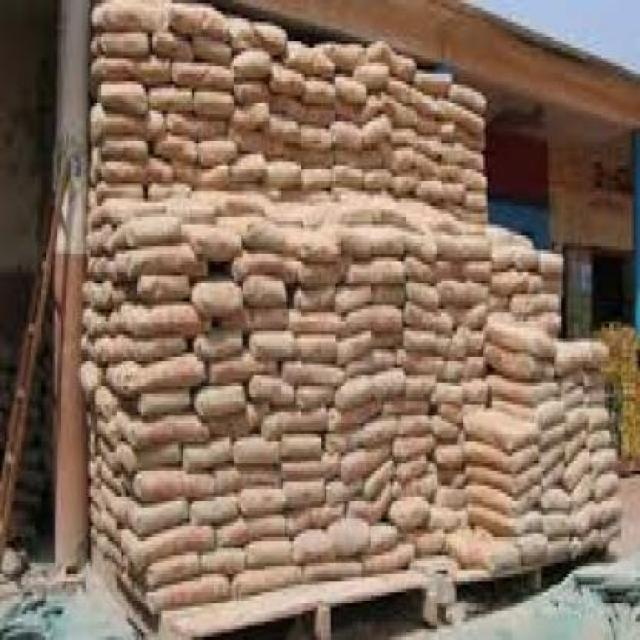gunny_bag: (338, 364, 404, 410), (139, 525, 214, 565), (154, 575, 230, 612), (233, 563, 301, 599), (132, 356, 205, 389), (216, 515, 285, 549), (138, 413, 208, 446), (134, 302, 196, 339), (172, 4, 230, 42), (148, 551, 200, 591), (490, 316, 541, 356), (231, 20, 287, 56), (341, 310, 404, 342), (210, 357, 277, 387), (340, 443, 390, 482), (285, 502, 345, 534), (100, 55, 171, 82), (138, 503, 189, 540), (327, 422, 382, 456), (213, 467, 279, 495), (264, 409, 325, 439), (194, 382, 246, 417), (301, 556, 366, 584), (138, 274, 191, 308), (486, 346, 536, 382), (333, 398, 384, 433), (106, 199, 167, 228), (404, 345, 449, 384), (246, 530, 293, 567), (140, 474, 212, 498), (102, 0, 171, 25), (442, 97, 487, 135), (281, 452, 339, 481), (331, 517, 370, 560), (404, 303, 454, 336), (284, 355, 339, 385), (342, 230, 407, 255), (147, 111, 200, 141), (135, 246, 196, 272), (489, 374, 538, 406), (240, 252, 297, 279), (181, 442, 234, 471), (100, 81, 147, 113), (345, 485, 392, 517), (368, 543, 413, 576), (194, 228, 240, 260), (294, 529, 336, 564), (172, 62, 233, 86), (239, 488, 283, 521), (406, 252, 456, 280), (235, 438, 280, 469), (396, 447, 430, 488), (195, 283, 241, 313), (193, 491, 239, 521), (299, 255, 348, 283), (208, 409, 248, 443), (130, 218, 180, 245), (344, 352, 400, 376), (365, 456, 394, 502), (392, 493, 430, 528), (137, 442, 179, 473), (282, 481, 324, 512), (198, 329, 244, 357), (534, 391, 567, 430), (243, 275, 287, 304), (440, 233, 491, 258), (353, 260, 406, 284), (141, 389, 194, 413), (411, 530, 452, 561), (565, 444, 590, 494), (136, 335, 186, 360), (297, 380, 336, 412), (203, 547, 247, 575), (192, 35, 233, 65), (450, 79, 485, 114), (288, 41, 324, 75), (403, 330, 454, 354), (220, 191, 267, 217), (444, 180, 486, 209), (296, 332, 339, 360), (245, 307, 295, 331), (440, 281, 486, 307), (266, 185, 302, 218), (443, 164, 485, 192), (101, 135, 146, 161), (294, 309, 339, 335), (251, 330, 294, 357), (102, 109, 145, 136), (298, 233, 341, 260), (443, 142, 483, 171), (282, 434, 322, 463), (557, 342, 590, 377), (336, 282, 373, 313), (301, 200, 346, 225), (370, 521, 400, 558), (194, 90, 235, 117), (249, 379, 296, 402), (100, 33, 148, 55), (98, 182, 146, 204), (408, 278, 441, 310), (267, 158, 302, 188), (231, 155, 266, 185), (455, 253, 491, 282), (348, 209, 406, 227), (156, 139, 196, 165), (298, 284, 338, 310), (392, 434, 432, 460), (198, 137, 235, 165), (101, 162, 146, 185), (517, 529, 548, 562), (148, 88, 196, 109), (515, 460, 540, 500), (537, 417, 564, 454), (412, 87, 444, 118), (540, 433, 566, 471), (168, 197, 220, 216), (339, 334, 373, 363), (235, 52, 270, 80), (384, 416, 428, 438), (586, 422, 616, 454), (178, 211, 216, 236), (272, 63, 303, 93), (492, 536, 523, 566), (590, 441, 616, 476), (419, 116, 454, 142), (153, 32, 189, 57), (232, 126, 268, 151), (514, 506, 545, 535), (510, 441, 538, 473), (236, 79, 269, 106), (270, 93, 305, 118), (196, 160, 231, 185), (492, 271, 530, 294), (435, 204, 464, 234), (326, 480, 363, 503), (373, 284, 407, 309), (599, 510, 623, 545), (384, 398, 430, 416), (509, 422, 536, 452), (454, 327, 484, 354), (405, 375, 435, 402), (407, 231, 438, 257), (454, 303, 485, 329), (600, 494, 625, 526), (361, 63, 393, 88), (237, 102, 269, 127), (243, 235, 285, 254), (270, 137, 303, 161), (454, 358, 487, 382), (559, 364, 586, 393), (220, 212, 266, 229), (413, 74, 452, 94), (305, 79, 336, 104), (391, 51, 413, 86), (197, 115, 229, 139), (336, 99, 368, 123), (428, 508, 466, 528), (333, 126, 363, 151), (262, 213, 303, 231), (401, 202, 433, 225), (365, 116, 392, 143), (392, 172, 419, 199), (543, 457, 565, 490), (566, 426, 586, 462), (568, 399, 587, 436), (544, 489, 572, 514), (371, 331, 402, 353), (519, 479, 539, 513), (571, 529, 598, 554), (545, 510, 572, 535), (514, 244, 539, 271), (562, 382, 586, 410), (549, 534, 577, 558), (490, 242, 514, 270), (527, 293, 562, 312), (529, 272, 560, 293), (334, 44, 365, 65), (268, 116, 299, 137), (305, 102, 331, 127), (391, 147, 417, 172), (439, 398, 464, 424), (390, 104, 417, 128), (572, 476, 591, 510), (574, 502, 597, 530), (337, 79, 366, 101), (460, 376, 489, 398), (302, 167, 332, 188), (364, 169, 394, 190), (436, 487, 469, 506), (596, 473, 621, 498), (388, 79, 412, 105), (417, 134, 443, 158), (456, 127, 484, 149), (336, 166, 364, 188), (371, 192, 401, 212), (434, 446, 464, 466), (436, 419, 459, 445), (299, 128, 332, 146), (303, 147, 334, 166), (147, 162, 175, 183), (363, 149, 391, 170), (334, 147, 363, 167), (419, 155, 443, 179), (392, 126, 417, 149), (421, 175, 444, 200), (340, 189, 371, 207), (365, 97, 390, 119), (466, 211, 489, 234), (587, 410, 608, 434), (541, 249, 565, 270), (302, 189, 338, 203), (536, 313, 561, 332), (366, 43, 392, 61), (486, 293, 510, 310), (175, 163, 196, 182)
